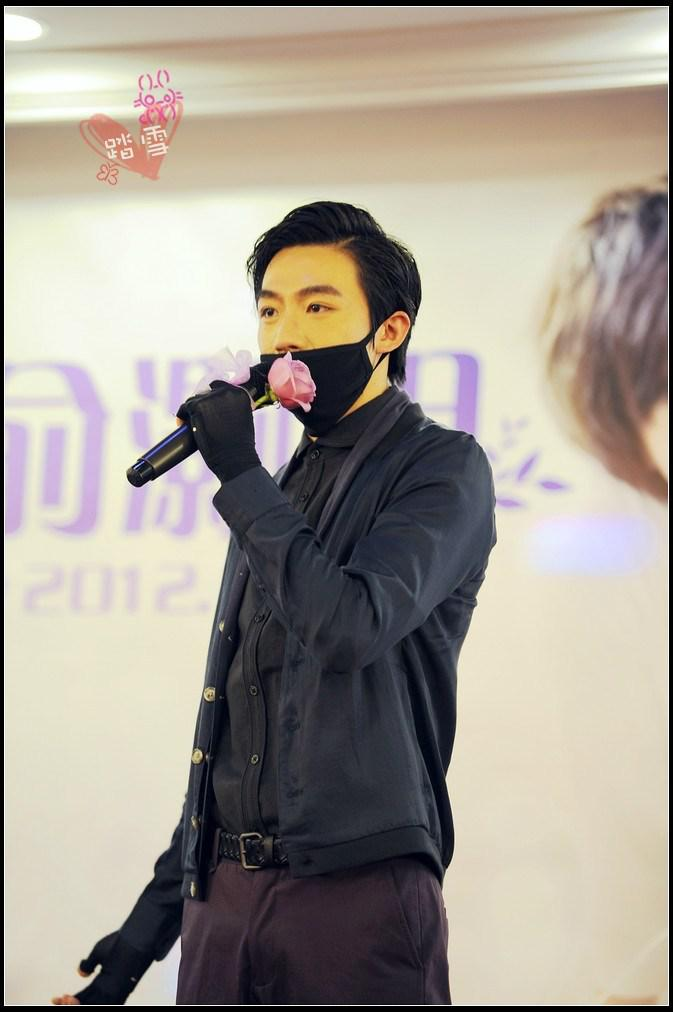WRONG: (252, 273, 392, 413)
